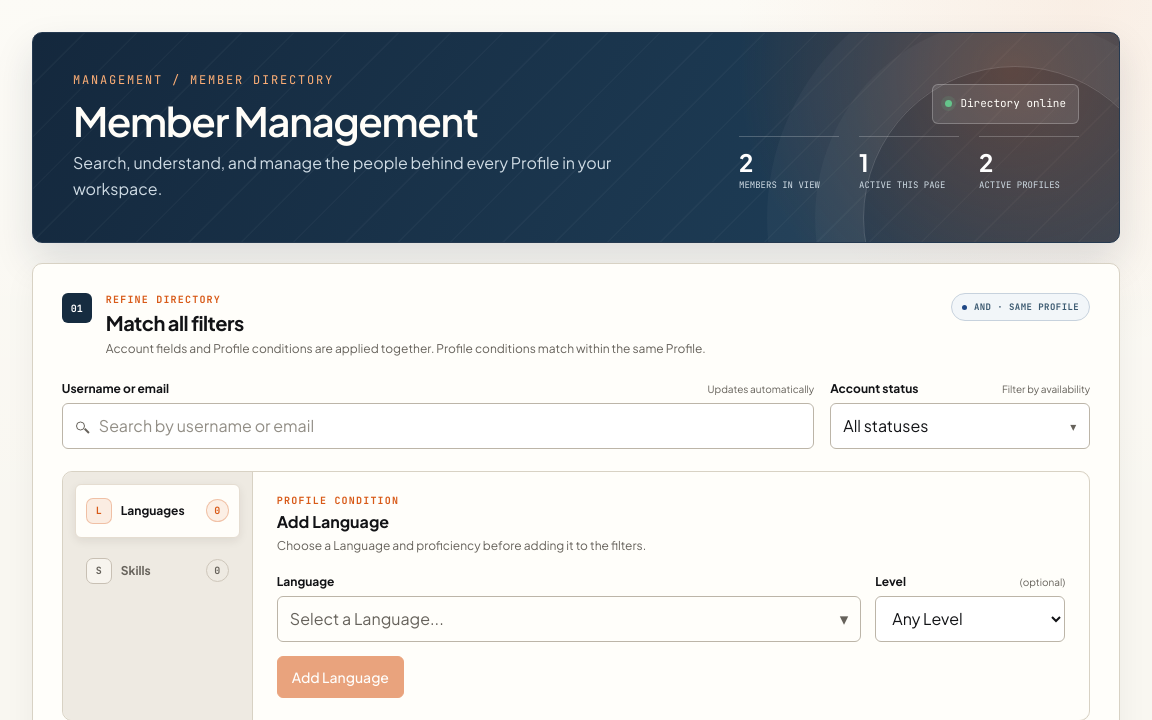
Test: MemberManagementComponent › shows optional Seniority before selecting a Skill and adds the Skill with Any Seniority by default
Click the tab with id "member-filter-tab-skills" at [157, 571], box [75, 544, 240, 598]
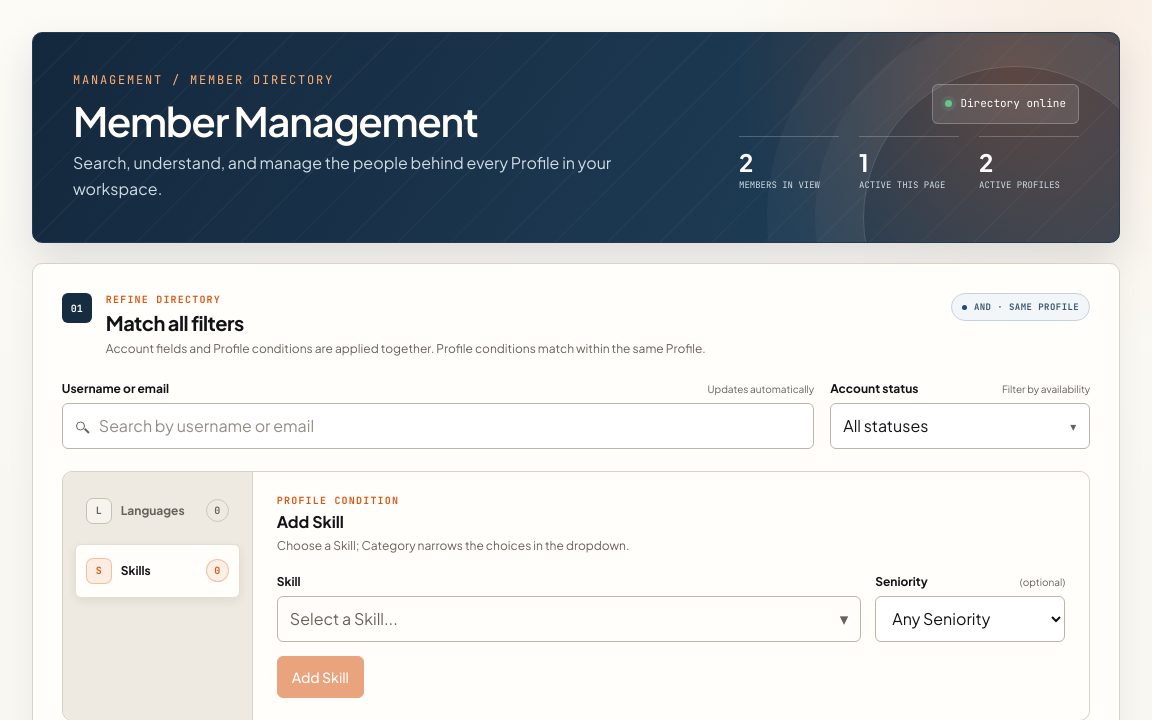
Check: the dropdown labelled "Seniority (optional)" shows "Any Seniority", box [875, 596, 1065, 642]
